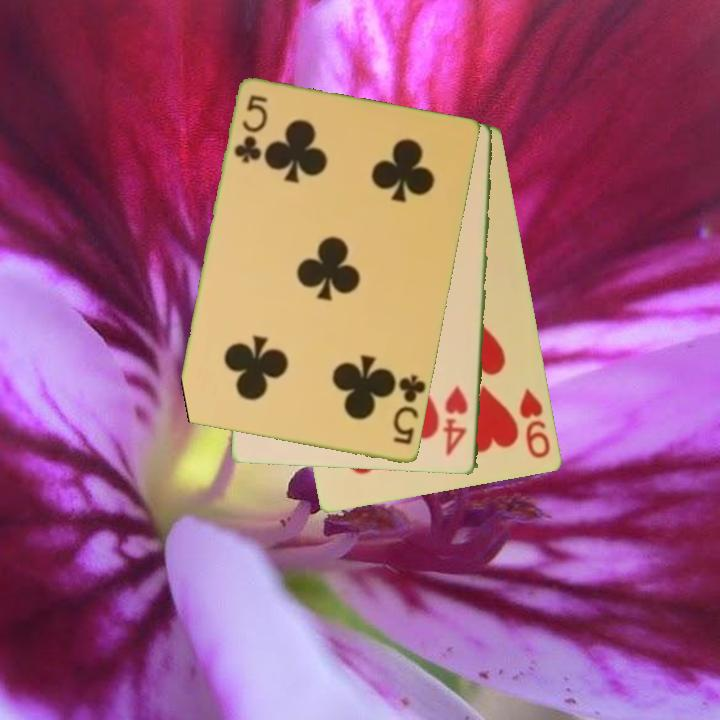4h: (442, 383, 471, 460)
5c: (231, 92, 271, 167), (390, 372, 429, 448)
9h: (516, 386, 554, 462)
